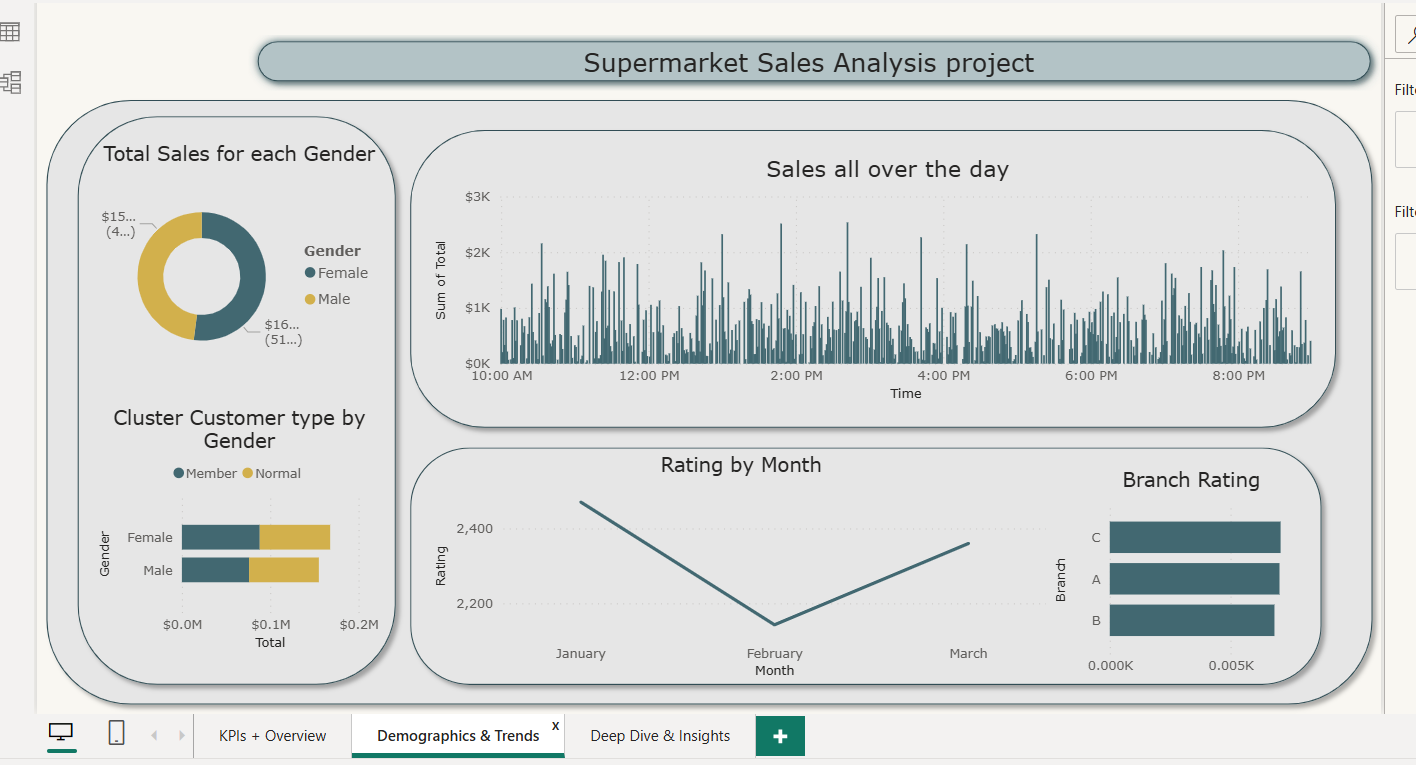

The dashboard page shown, as its layout file describes it:
{"tool":"powerbi","page":{"name":"Demographics & Trends","canvas":[1280,720],"ordinal":1},"visuals":[{"type":"shape","box":[0,126.1,1280.6,593.7],"z":0},{"type":"shape","box":[201.5,69.9,1077.6,56.2],"z":1000},{"type":"shape","box":[346.9,154.9,899.4,301.6],"z":2000},{"type":"shape","box":[346.9,456.6,885.7,244],"z":3000},{"type":"shape","box":[30.2,141.2,320.8,559.4],"z":4000},{"type":"donutChart","title":" Total Sales for each Gender","fields":{"Category":["supermarket_sales - Sheet1.Gender"],"Y":["Sum(supermarket_sales - Sheet1.Total)"]},"box":[54.8,175.5,275.6,234.4],"z":5000},{"type":"barChart","title":"Cluster Customer type by Gender ","fields":{"Category":["supermarket_sales - Sheet1.Gender"],"Y":["Sum(supermarket_sales - Sheet1.Total)"],"Series":["supermarket_sales - Sheet1.Customer type"]},"box":[54.8,426.4,275.6,237.2],"z":6000},{"type":"clusteredColumnChart","title":"Sales all over  the  day ","fields":{"Category":["supermarket_sales - Sheet1.Time"],"Y":["Sum(supermarket_sales - Sheet1.Total)"]},"box":[374.3,186.5,870.6,239.9],"z":7000},{"type":"lineChart","fields":{"Y":["Sum(supermarket_sales - Sheet1.Rating)"],"Category":["supermarket_sales - Sheet1.Date.Variation.Date Hierarchy.Month","supermarket_sales - Sheet1.Date.Variation.Date Hierarchy.Day"]},"box":[374.3,471.6,590.9,219.4],"z":8000},{"type":"clusteredBarChart","title":"Branch Rating ","fields":{"Category":["supermarket_sales - Sheet1.Branch"],"Y":["Avg(supermarket_sales - Sheet1.Rating)"]},"box":[965.2,485.4,267.4,205.7],"z":9000},{"type":"textbox","box":[515.5,79.5,494.9,64.4],"z":10000}]}

Visuals, with their boxes in screenshot pixels (x1, y1, x2, y2):
shape: bbox=[41, 80, 1379, 701]
shape: bbox=[251, 21, 1378, 80]
shape: bbox=[403, 110, 1344, 426]
shape: bbox=[403, 426, 1329, 681]
shape: bbox=[72, 96, 408, 681]
" Total Sales for each Gender" donutChart: bbox=[98, 132, 386, 377]
"Cluster Customer type by Gender " barChart: bbox=[98, 394, 386, 642]
"Sales all over  the  day " clusteredColumnChart: bbox=[432, 143, 1342, 394]
lineChart - Sum(supermarket_sales - Sheet1.Rating) x supermarket_sales - Sheet1.Date.Variation.Date Hierarchy.Month: bbox=[432, 441, 1050, 671]
"Branch Rating " clusteredBarChart: bbox=[1050, 456, 1329, 671]
textbox: bbox=[580, 31, 1097, 99]
